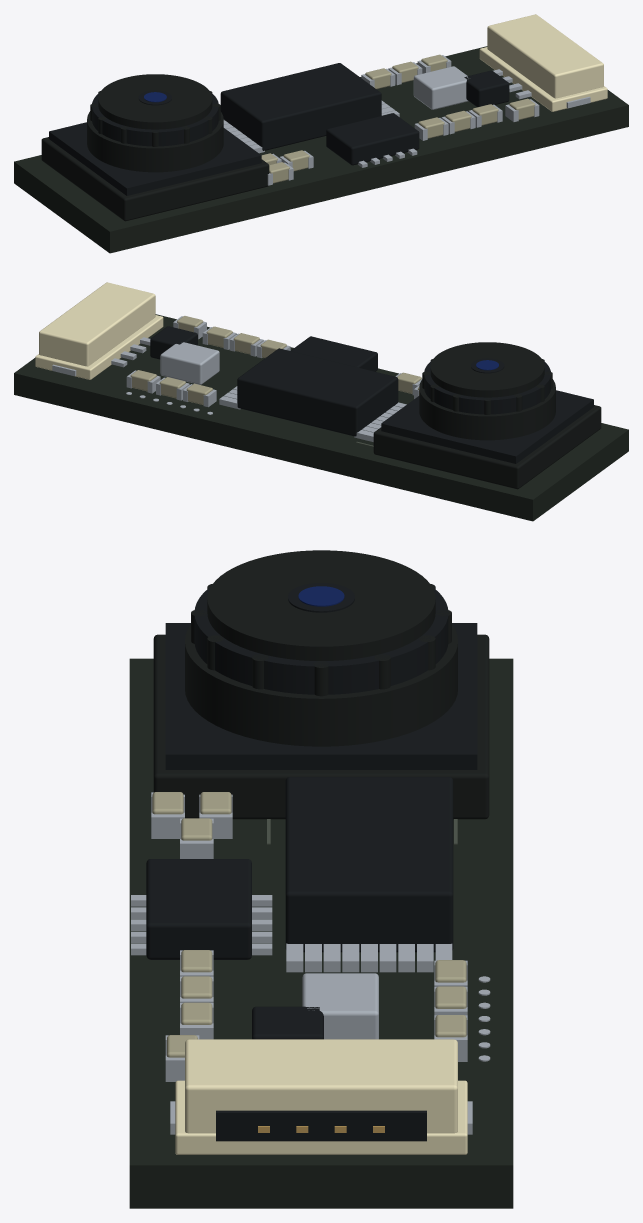
Rendered from camera.glb.
3 renders of one model, top to bottom at view 1: azimuth 30°, elevation 25°; view 2: azimuth 150°, elevation 25°; view 3: azimuth 270°, elevation 25°, orthographic. The views are drawn at different scales.
Parts seen in each view (by area): view 1: plastic (×2), pcb, chip (×2), connector, metal (×2), solder; view 2: pcb, plastic (×2), chip (×2), connector, metal (×2), solder; view 3: plastic (×2), pcb, chip (×2), connector (×2), metal (×2), solder.
Part boxes in pixels (left/top/right/bottom): plastic (×2): left=41, top=70, right=509, bottom=221; pcb: left=14, top=46, right=628, bottom=253; chip (×2): left=220, top=54, right=535, bottom=183; connector: left=479, top=14, right=607, bottom=111; metal (×2): left=223, top=66, right=590, bottom=167; solder: left=267, top=55, right=539, bottom=185; pcb: left=14, top=314, right=628, bottom=521; plastic (×2): left=150, top=326, right=601, bottom=489; chip (×2): left=130, top=316, right=421, bottom=436; connector: left=35, top=282, right=163, bottom=379; metal (×2): left=52, top=342, right=406, bottom=441; solder: left=111, top=316, right=422, bottom=407; plastic (×2): left=146, top=550, right=489, bottom=1039; pcb: left=129, top=658, right=513, bottom=1208; chip (×2): left=152, top=777, right=466, bottom=1057; connector (×2): left=175, top=1039, right=467, bottom=1154; metal (×2): left=131, top=895, right=490, bottom=1134; solder: left=151, top=792, right=467, bottom=1081.
Size of the model in its own units: 25 by 4.54 by 8.
